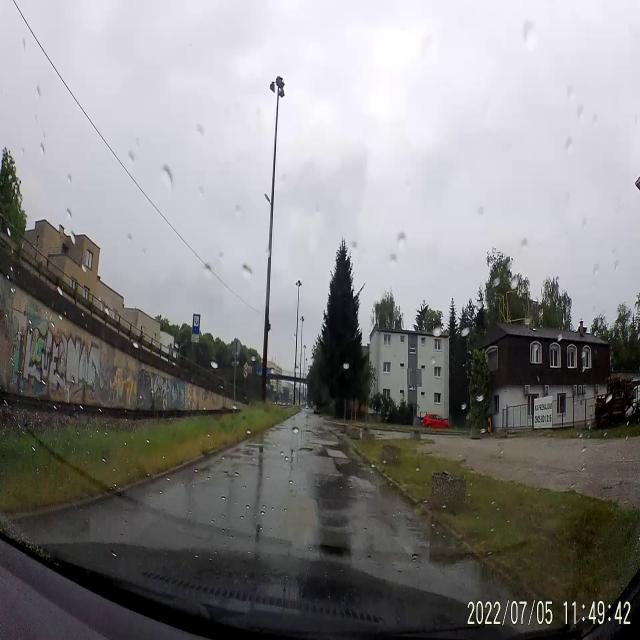Pothole: (326, 440, 352, 466), (298, 440, 312, 460)
